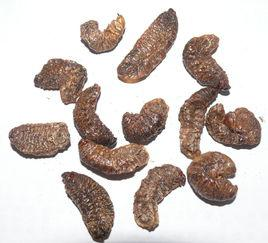pest: (119, 7, 180, 84), (61, 170, 115, 243), (133, 165, 186, 232), (184, 32, 235, 93), (180, 88, 220, 159), (73, 84, 117, 147), (79, 139, 151, 176), (209, 102, 263, 149), (190, 152, 238, 203), (35, 59, 88, 103), (9, 123, 71, 158), (122, 98, 169, 144), (81, 14, 126, 52)
